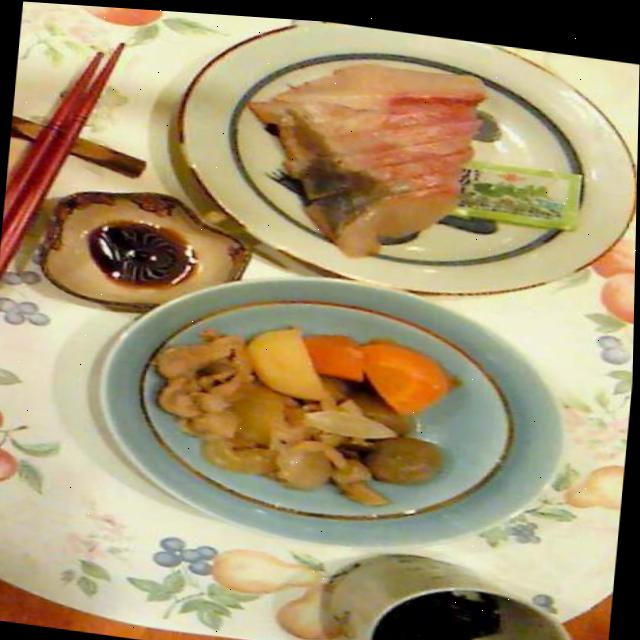刺身生食: (153, 8, 640, 309)
鸡肉料理 含炸鸡: (86, 248, 576, 579)
